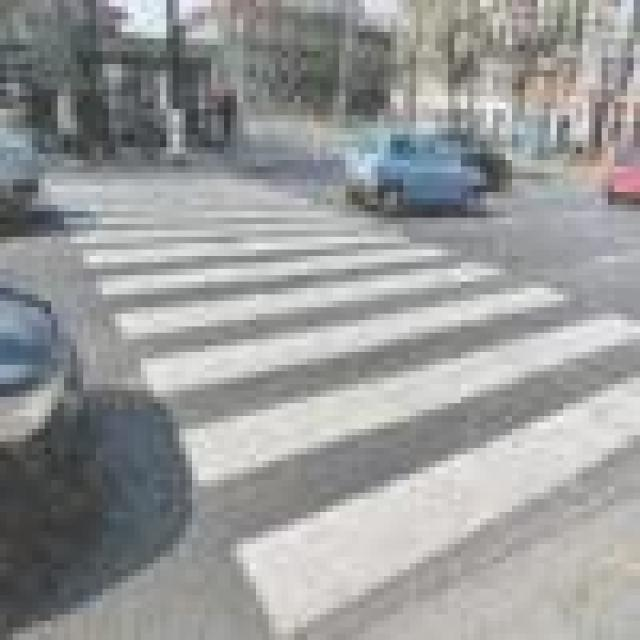zebra: (38, 160, 640, 640)
